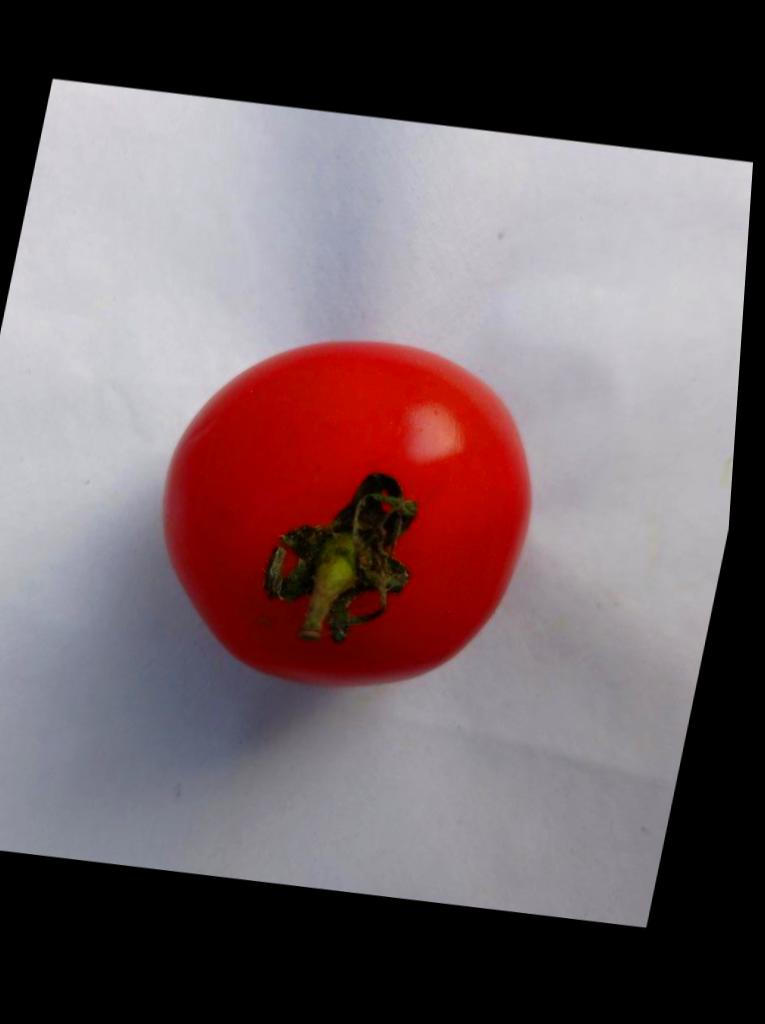tomato: (162, 343, 526, 686)
